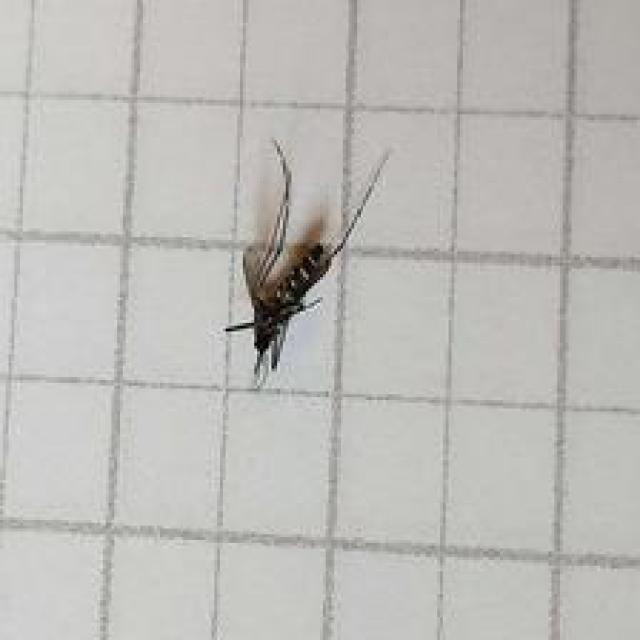Aedes albopictus: (223, 136, 394, 387)
